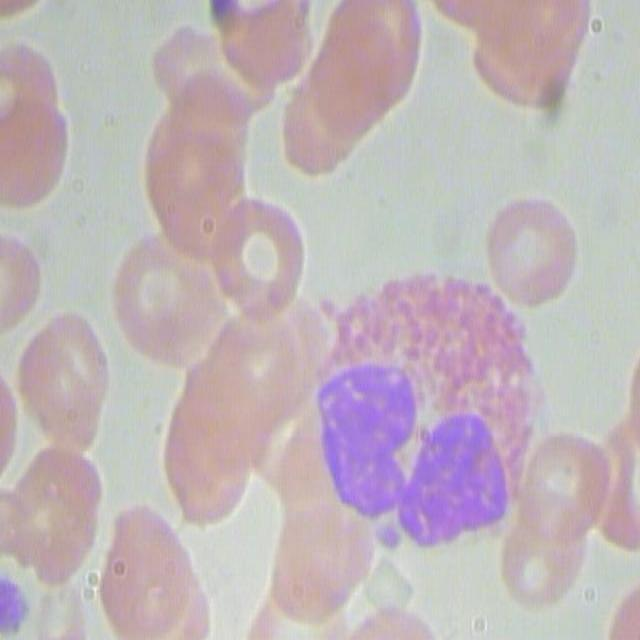RBC: (283, 3, 421, 179), (407, 265, 540, 433), (142, 92, 240, 270), (166, 364, 271, 524), (111, 235, 223, 371), (265, 488, 361, 635), (206, 2, 330, 114), (468, 2, 589, 112), (100, 514, 207, 638), (202, 194, 304, 323), (0, 23, 68, 212), (5, 445, 99, 578), (18, 308, 108, 444), (484, 193, 580, 315), (494, 511, 580, 611), (592, 405, 640, 553), (0, 224, 42, 342)
WBC: (316, 277, 518, 558)
